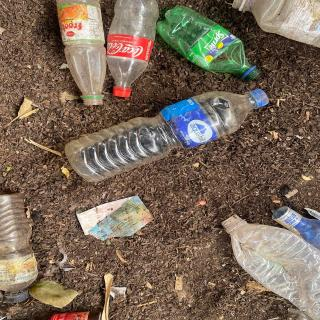Plastic-bottle: (62, 85, 275, 187), (219, 212, 320, 320), (153, 3, 271, 83), (54, 1, 110, 109), (105, 1, 165, 101), (1, 192, 43, 307)
